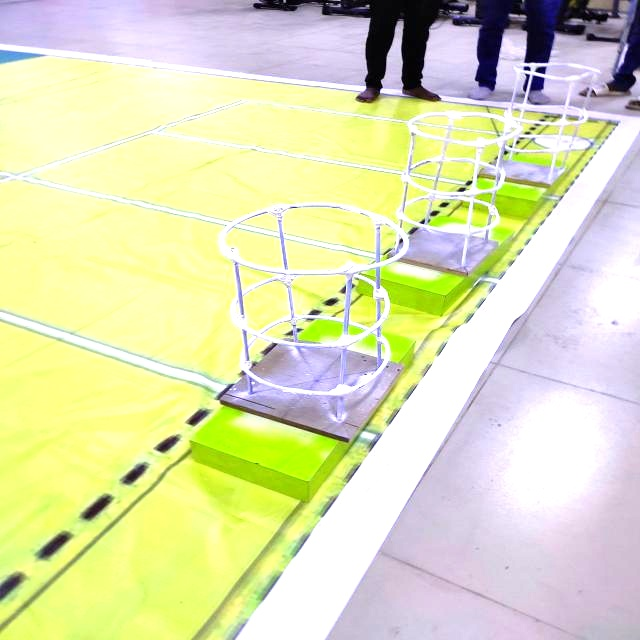silo: (200, 192, 411, 434), (374, 94, 520, 288), (486, 48, 609, 190)
